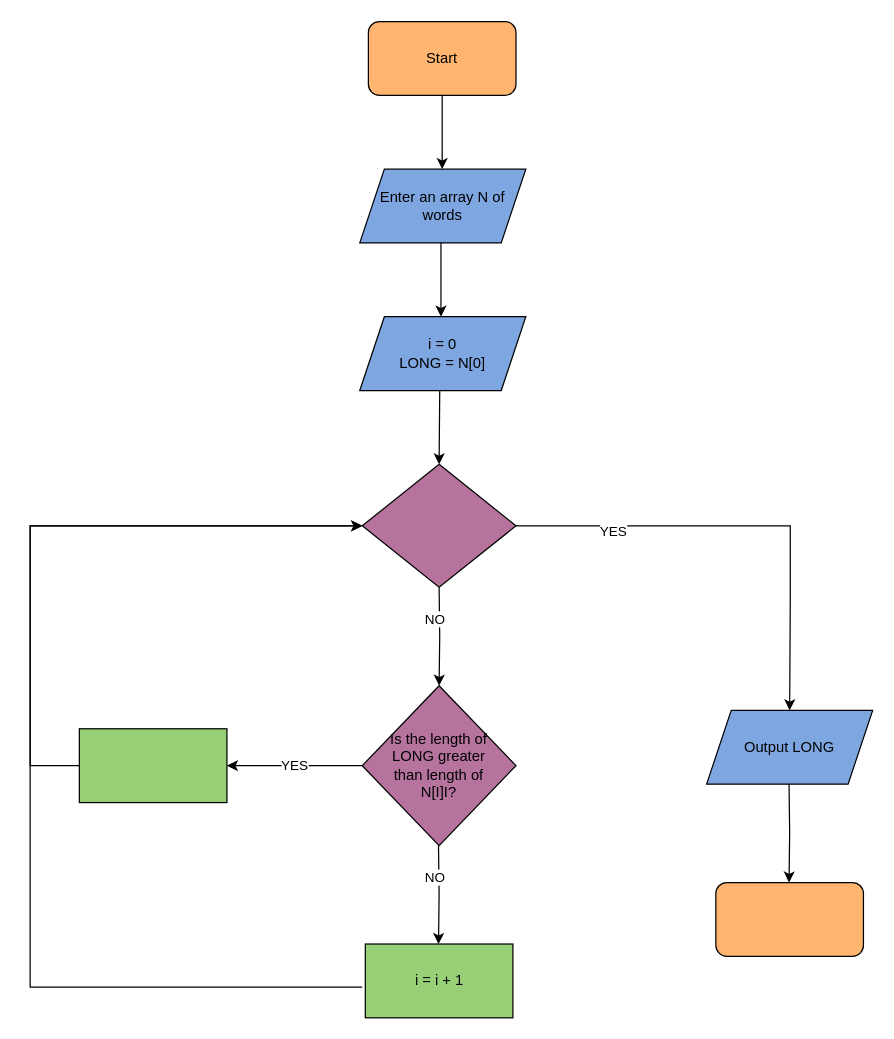
Image size: 894x1039. Some labels were removed from this diagram. Each missing label, with the box of its shape:
End: (715, 881, 863, 956)
i = i + 1 LONG = N[i]: (78, 728, 227, 803)
Is I greater than length of N - 1?: (361, 463, 516, 587)
